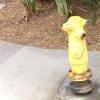a fire hydrant: (61, 14, 94, 81)
